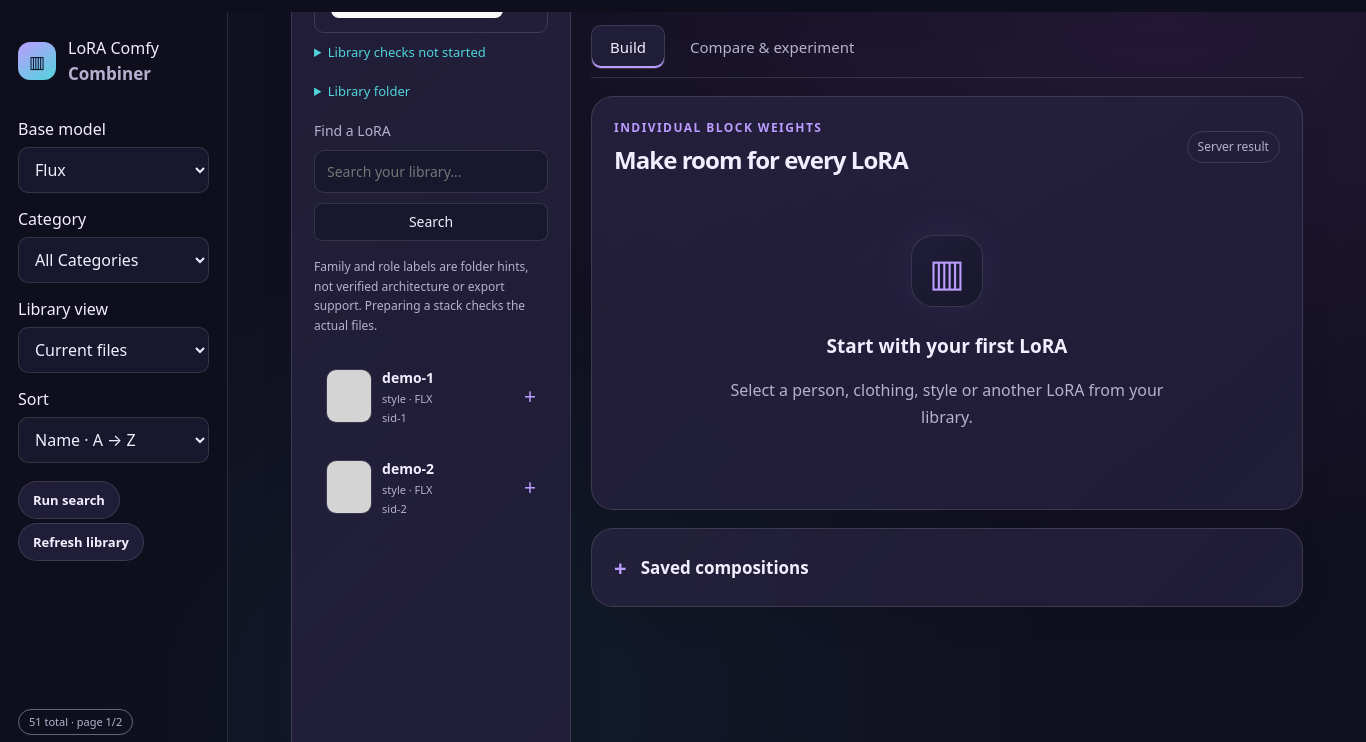
Studio integration › discards a response calculated before the selected stack changed
(page scrolled)
Click the button "demo-1 style · FLX sid-1 +": (431, 396) [317,355,545,438]
(page scrolled)
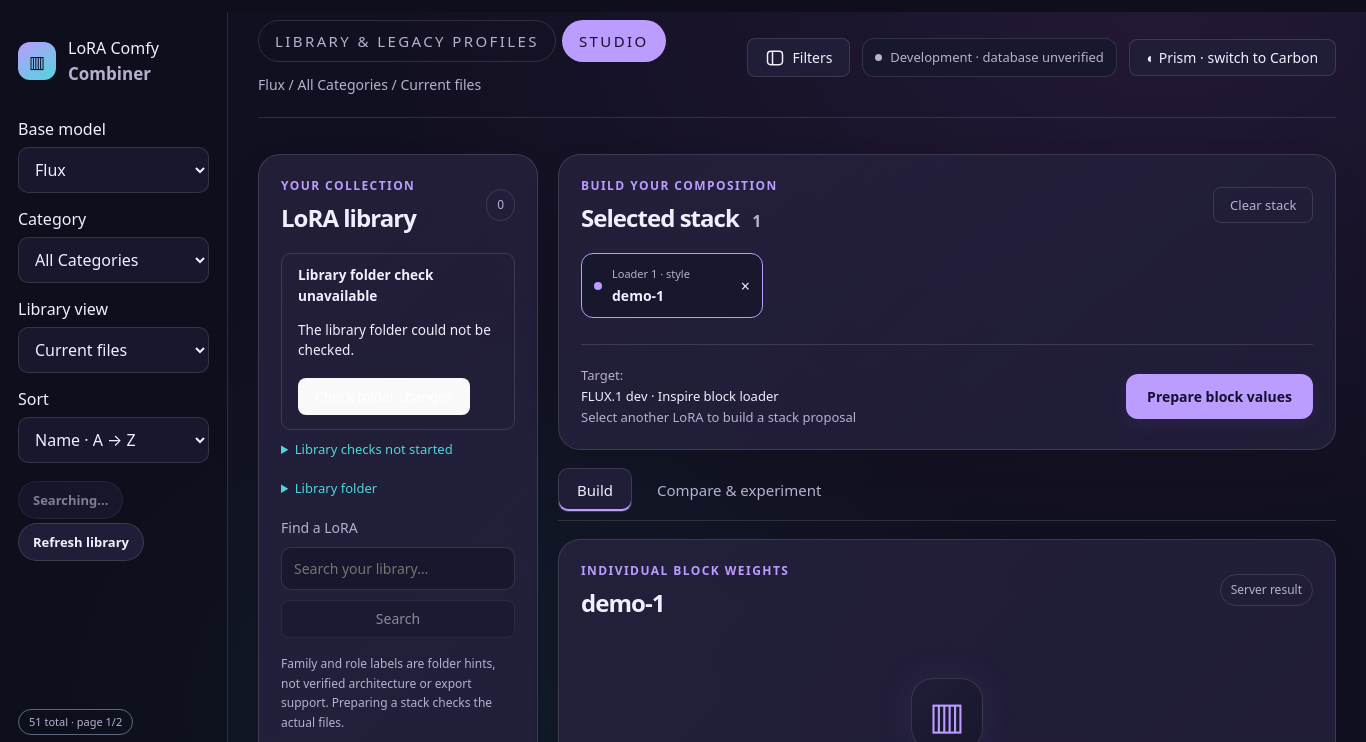
Click the button "Prepare block values": (1220, 396) [1126,374,1313,419]
(page scrolled)
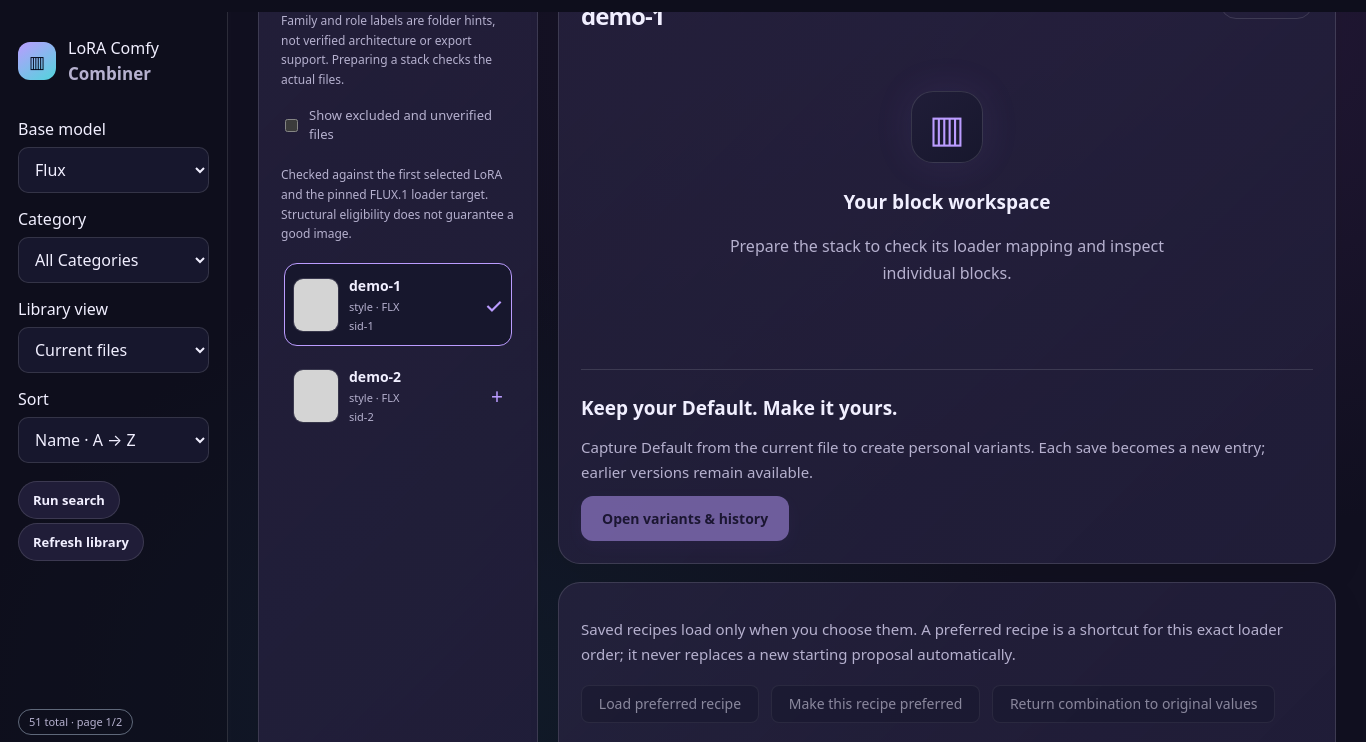
Click the button "demo-2 style · FLX sid-2 +": (398, 396) [284,354,512,437]
(page scrolled)
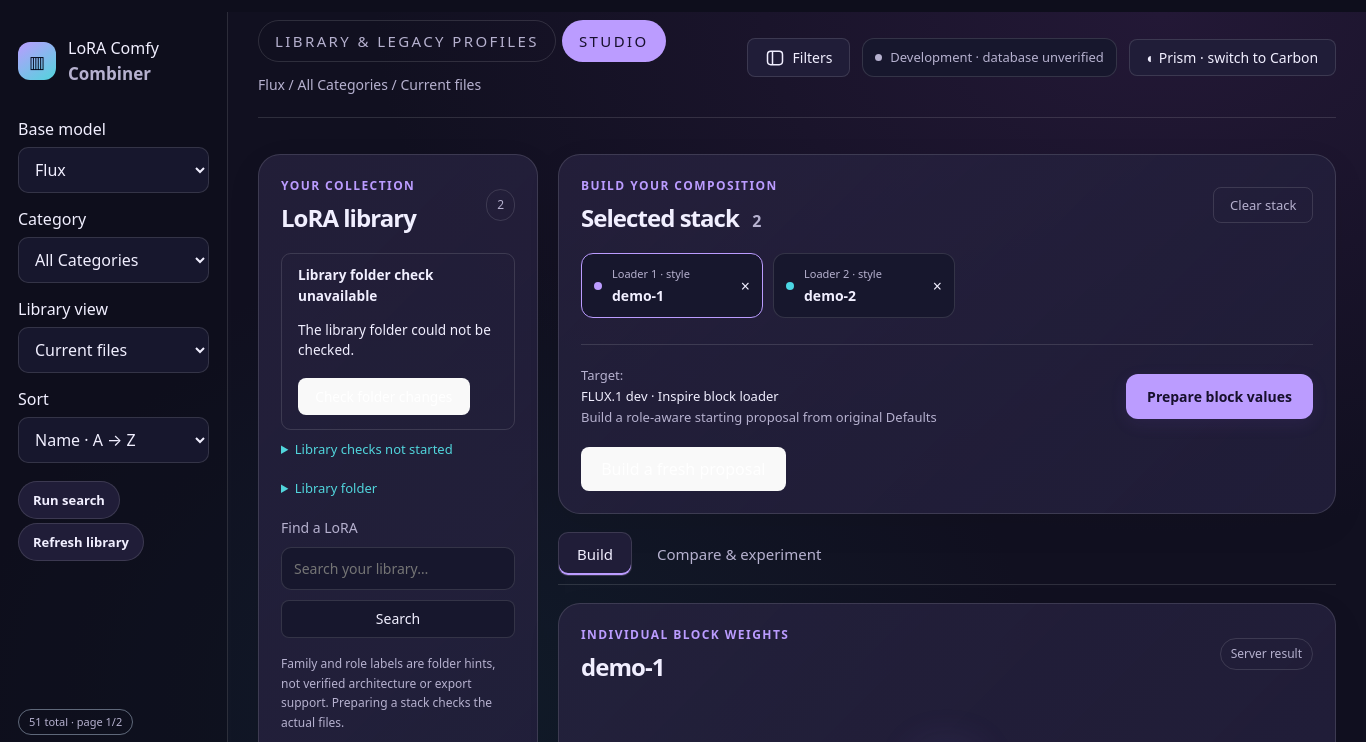
Expected: the button "Prepare block values" is enabled, [1126,374,1313,419]
